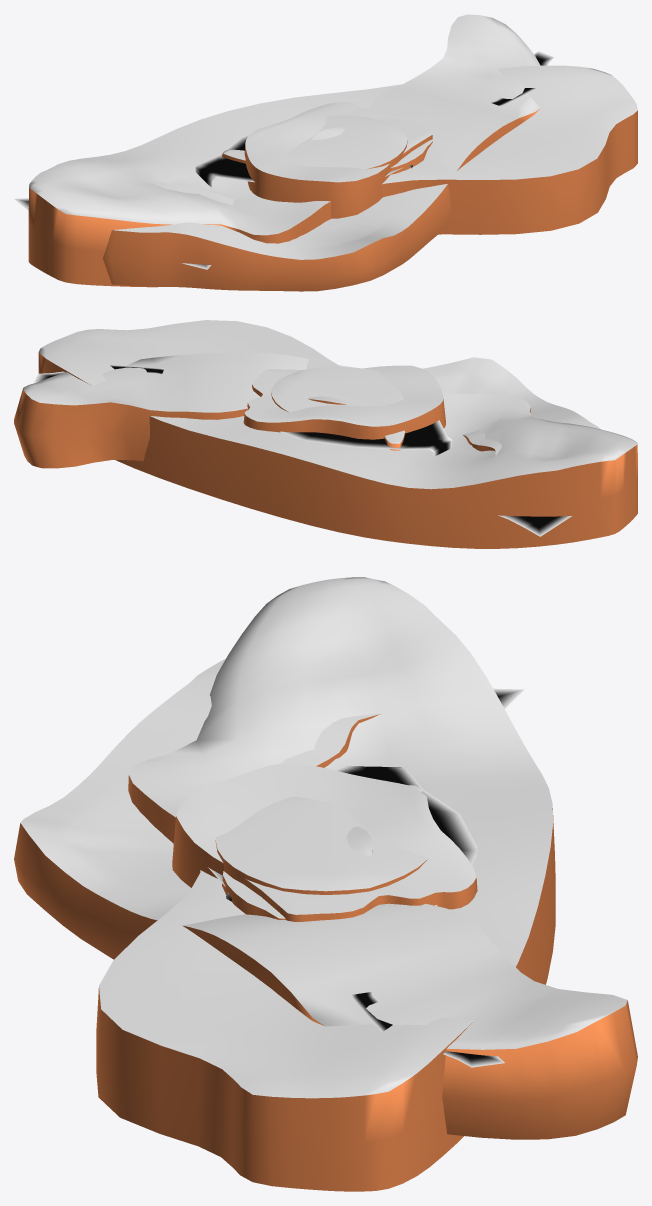
File: SakuraForest.fbx
3 views of the same model, one above another, from view 1: azimuth 30°, elevation 25°; view 2: azimuth 150°, elevation 25°; view 3: azimuth 270°, elevation 25° (orthographic). The views are drawn at different scales.
Visible parts, largest first — view 1: Ground3, Ground1, Ground2, Ground4, Water, Ground6; view 2: Ground3, Ground1, Ground2, Ground4, Water; view 3: Ground3, Ground1, Ground2, Ground4, Water, Ground6.
Boxes of the visible parts, left/top/right/bottom form: Ground3: left=28, top=65, right=637, bottom=287; Ground1: left=103, top=14, right=540, bottom=291; Ground2: left=244, top=102, right=432, bottom=218; Ground4: left=289, top=115, right=407, bottom=169; Water: left=14, top=51, right=554, bottom=269; Ground6: left=222, top=140, right=432, bottom=174; Ground3: left=38, top=320, right=637, bottom=548; Ground1: left=14, top=353, right=600, bottom=468; Ground2: left=243, top=365, right=445, bottom=439; Ground4: left=271, top=366, right=403, bottom=412; Water: left=34, top=364, right=571, bottom=536; Ground3: left=96, top=577, right=555, bottom=1191; Ground1: left=14, top=659, right=637, bottom=1139; Ground2: left=172, top=763, right=477, bottom=921; Ground4: left=215, top=797, right=428, bottom=894; Water: left=208, top=688, right=524, bottom=1067; Ground6: left=222, top=785, right=422, bottom=919.
Bounding box in the file's own units: 35252 × 5235 × 19850.
